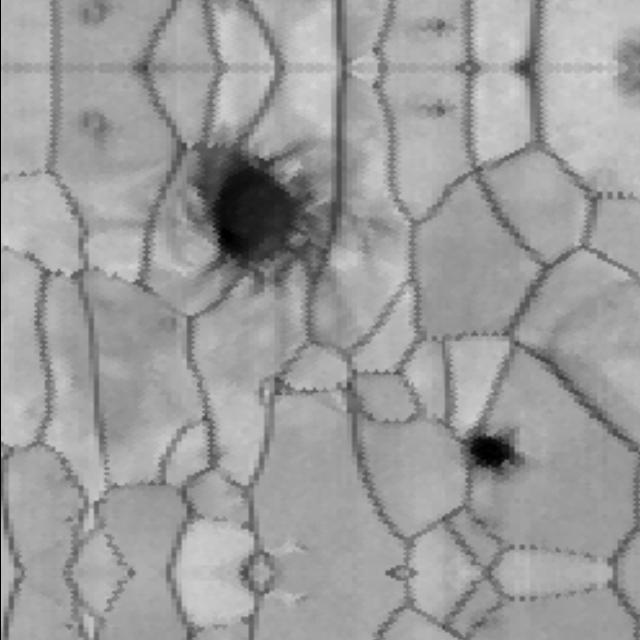good_void: (151, 89, 385, 325), (447, 413, 526, 485), (63, 92, 128, 163), (71, 0, 119, 34), (417, 94, 458, 124), (417, 10, 458, 40), (610, 67, 640, 99), (610, 35, 640, 67), (268, 372, 289, 400)
